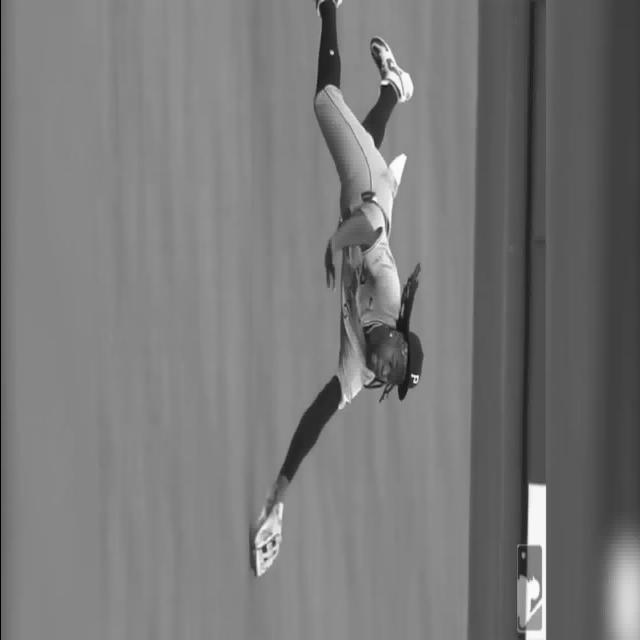baseball_glove: (247, 495, 286, 577)
shoe: (370, 33, 412, 100)
